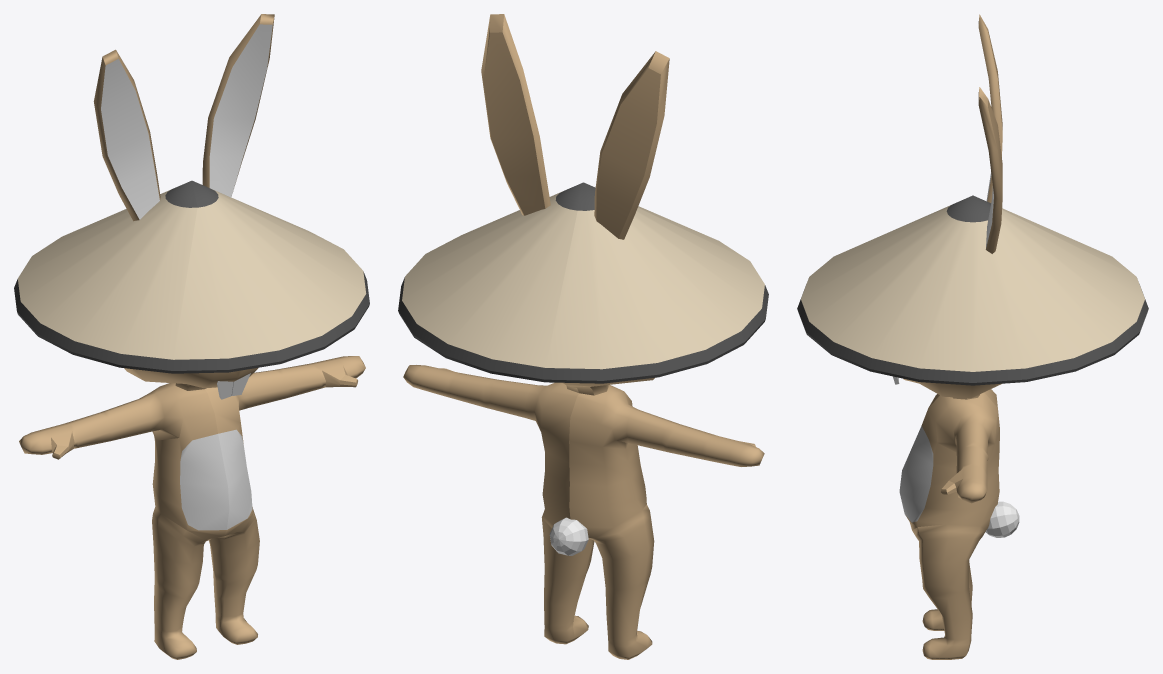
Rendered from ShovelBunnyCombined.fbx.
3 renders of one model, left to right at view 1: azimuth 30°, elevation 25°; view 2: azimuth 150°, elevation 25°; view 3: azimuth 270°, elevation 25°, orthographic. The views are drawn at different scales.
Parts seen in each view (by area): view 1: polySurface20, polySurface19, polySurface22, polySurface21; view 2: polySurface20, polySurface19, polySurface21, polySurface22, polySurface18; view 3: polySurface20, polySurface19, polySurface22, polySurface21, polySurface18.
Part boxes in pixels (<box>): polySurface20: <box>14,180,369,373</box>; polySurface19: <box>19,356,365,659</box>; polySurface22: <box>202,14,274,197</box>; polySurface21: <box>93,49,160,221</box>; polySurface20: <box>398,182,768,383</box>; polySurface19: <box>403,365,764,659</box>; polySurface21: <box>594,51,669,239</box>; polySurface22: <box>481,14,550,215</box>; polySurface18: <box>549,517,588,555</box>; polySurface20: <box>797,195,1148,385</box>; polySurface19: <box>899,378,1001,659</box>; polySurface22: <box>978,87,1002,253</box>; polySurface21: <box>978,14,1002,202</box>; polySurface18: <box>985,501,1019,537</box>.
Bounding box in the file's own units: 72.83 × 122 × 65.9.
